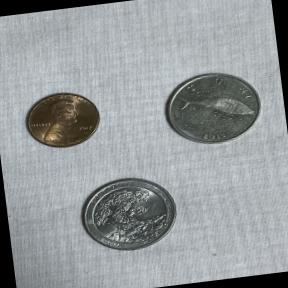Croatia-2Kune-B: (157, 64, 270, 152)
US-1cent-B: (15, 80, 110, 158)
US-25cent-B: (73, 168, 187, 260)
